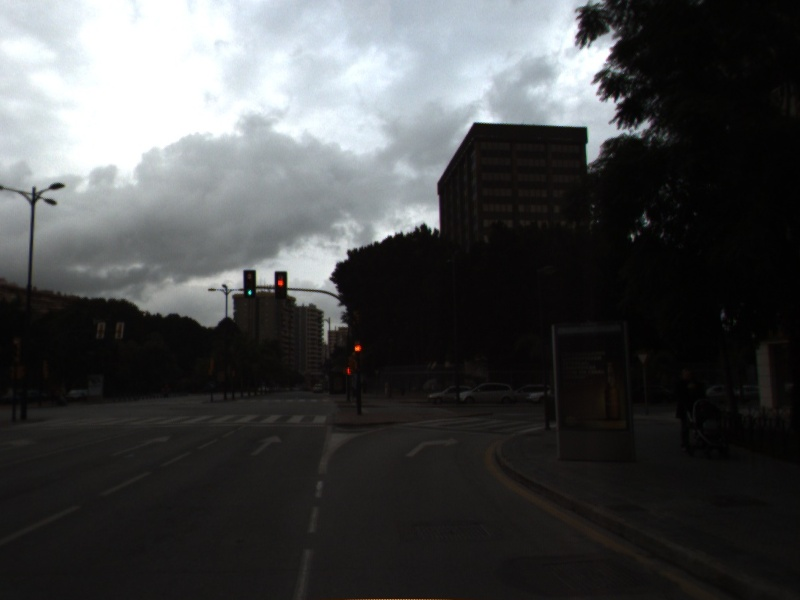RIGHT: (403, 435, 462, 459)
STRAIGHT: (108, 434, 173, 458), (248, 432, 285, 457)
